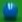blue: (0, 0, 22, 22)
